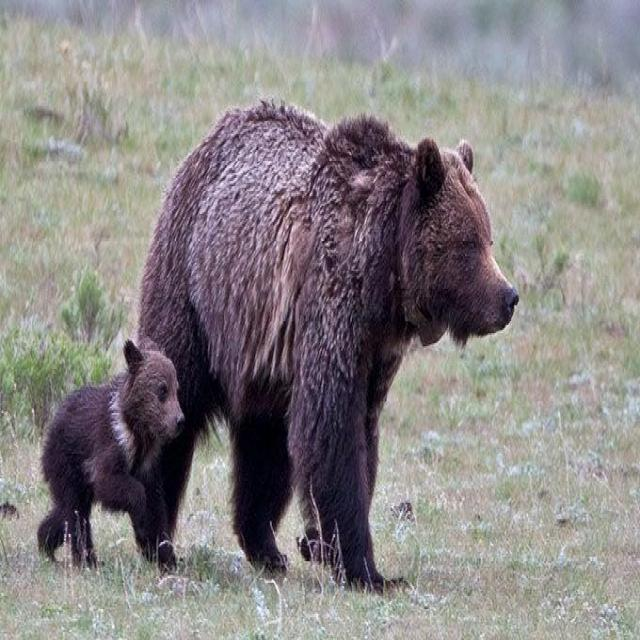Bear: (139, 104, 521, 593), (37, 344, 184, 568)
